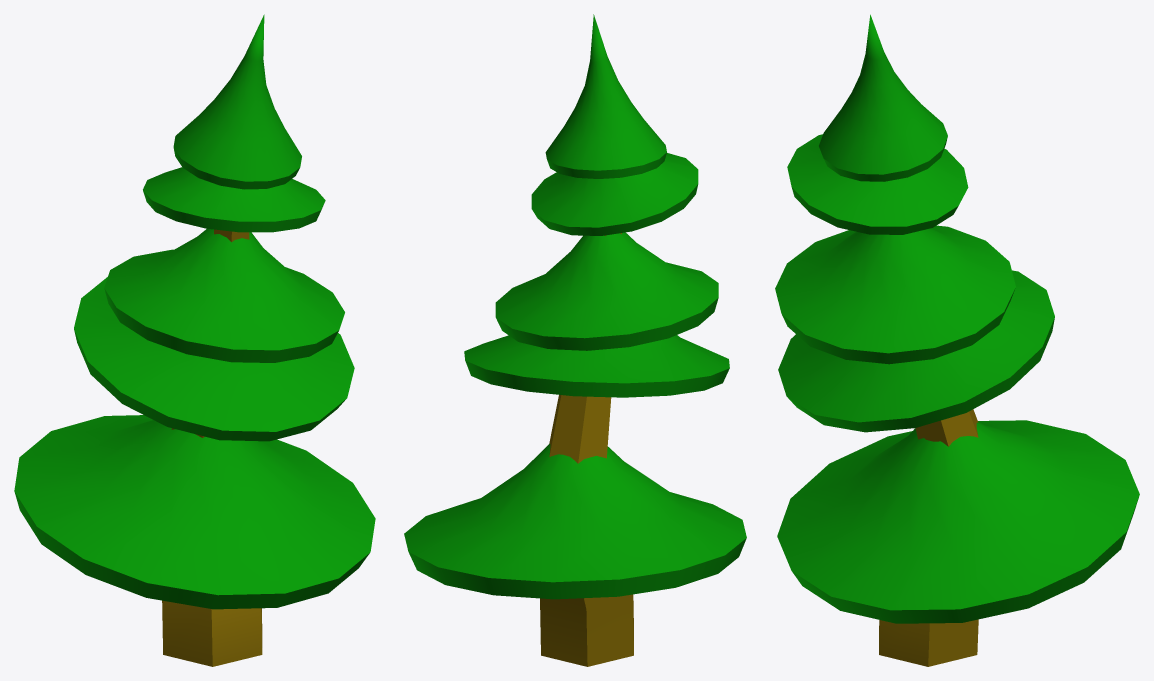
The model's file is Tree_v1_001.fbx.
3 views of the same model, side by side, from view 1: azimuth 30°, elevation 25°; view 2: azimuth 150°, elevation 25°; view 3: azimuth 270°, elevation 25° (orthographic). The views are drawn at different scales.
Visible parts, largest first — view 1: Tree_v1_001; view 2: Tree_v1_001; view 3: Tree_v1_001.
Boxes of the visible parts, bbox=[...] form: Tree_v1_001: bbox=[14, 14, 375, 666]; Tree_v1_001: bbox=[404, 14, 746, 666]; Tree_v1_001: bbox=[775, 14, 1139, 666].
Bounding box in the file's own units: 165 × 319 × 165.
